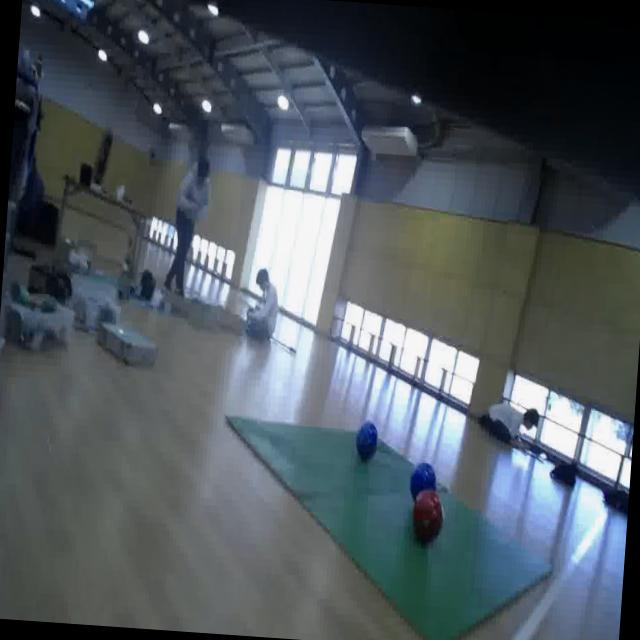blue_ball: (408, 460, 438, 506), (352, 420, 380, 465)
red_ball: (410, 486, 447, 550)
